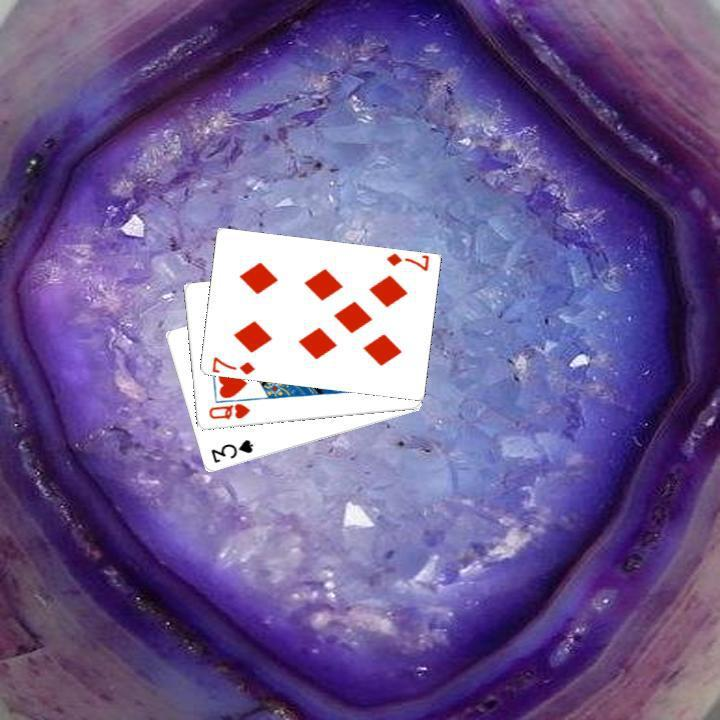3: (206, 435, 255, 465)
7: (208, 353, 257, 377), (382, 250, 430, 274)
Q: (204, 399, 252, 422)
